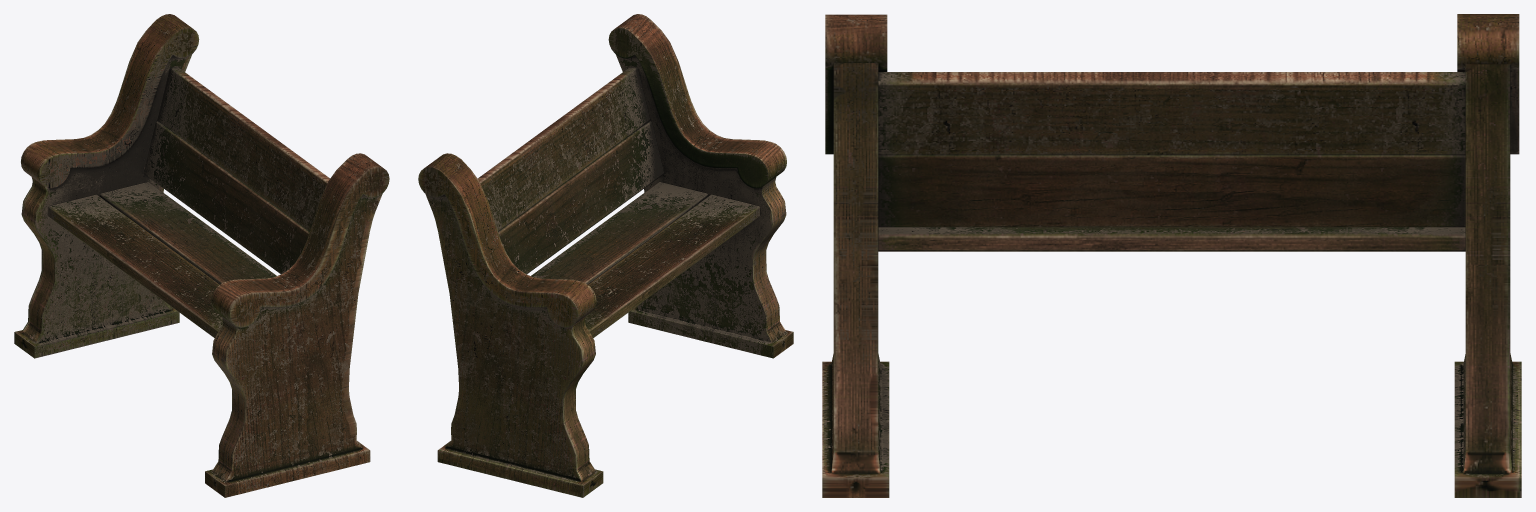
File: bench3.fbx
3 views of the same model, side by side, from view 1: azimuth 30°, elevation 25°; view 2: azimuth 150°, elevation 25°; view 3: azimuth 270°, elevation 25° (orthographic). The views are drawn at different scales.
Visible parts, largest first — view 1: bench1; view 2: bench1; view 3: bench1.
Part boxes in pixels (x1=…): bench1: x1=14, y1=14, x2=389, y2=497; bench1: x1=418, y1=14, x2=793, y2=497; bench1: x1=822, y1=14, x2=1521, y2=497.
Bounding box in the file's own units: 75.51 × 128 × 167.
